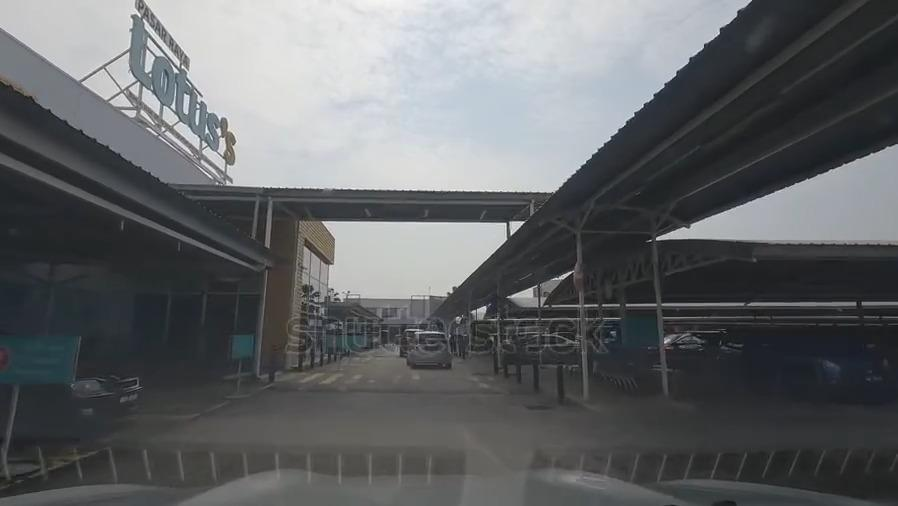car: (1, 327, 143, 434), (742, 325, 893, 399), (658, 327, 724, 367), (499, 331, 582, 360), (407, 329, 455, 368), (399, 324, 423, 355)
manhole: (521, 396, 555, 415)
pedestrian: (271, 363, 515, 393)
